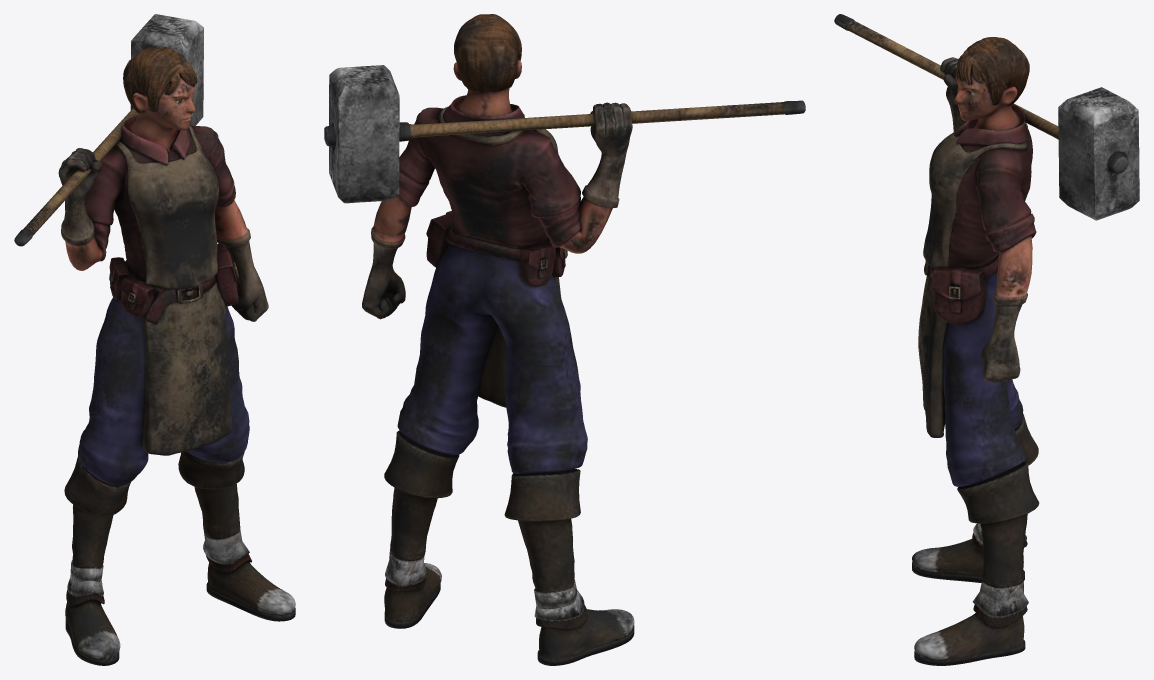
File: MZ4250 - Human Female Blacksmith_alt1.glb
3 views of the same model, side by side, from view 1: azimuth 30°, elevation 25°; view 2: azimuth 150°, elevation 25°; view 3: azimuth 270°, elevation 25° (orthographic). The views are drawn at different scales.
Visible parts, largest first — view 1: Human Female Blacksmith.001; view 2: Human Female Blacksmith.001; view 3: Human Female Blacksmith.001.
Boxes of the visible parts, x1,y1,x2,y2 form: Human Female Blacksmith.001: (14, 14, 295, 665); Human Female Blacksmith.001: (324, 14, 805, 665); Human Female Blacksmith.001: (834, 14, 1139, 665).
Size of the model in its own units: 20.97 by 34.78 by 16.81.
Materials: 1 (1 with a texture image).
